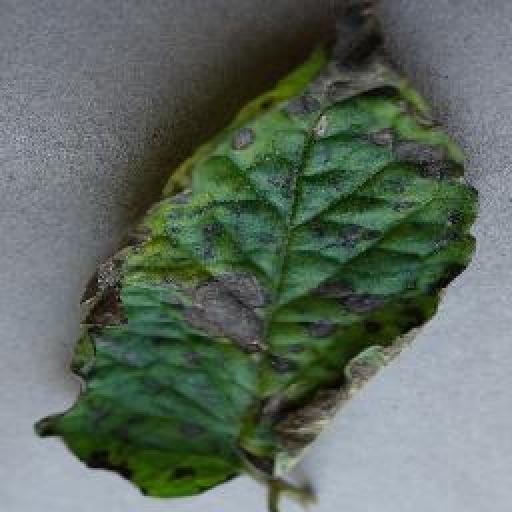Early Blight: (39, 12, 478, 504)
